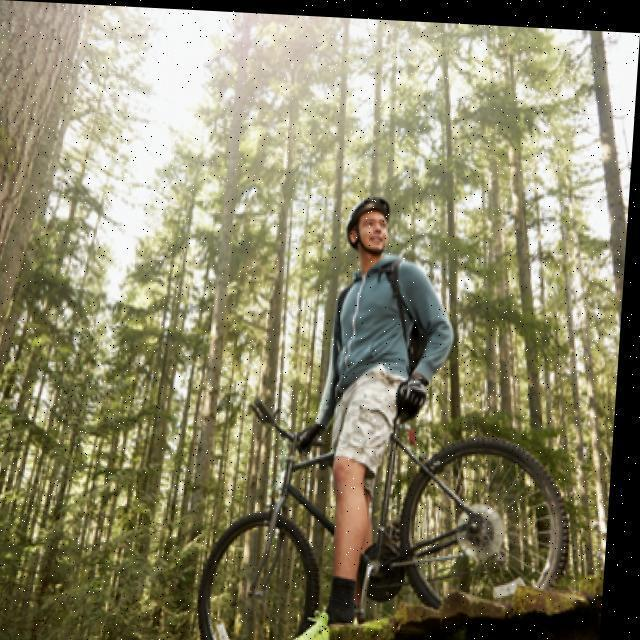Helmet: (342, 189, 408, 251)
